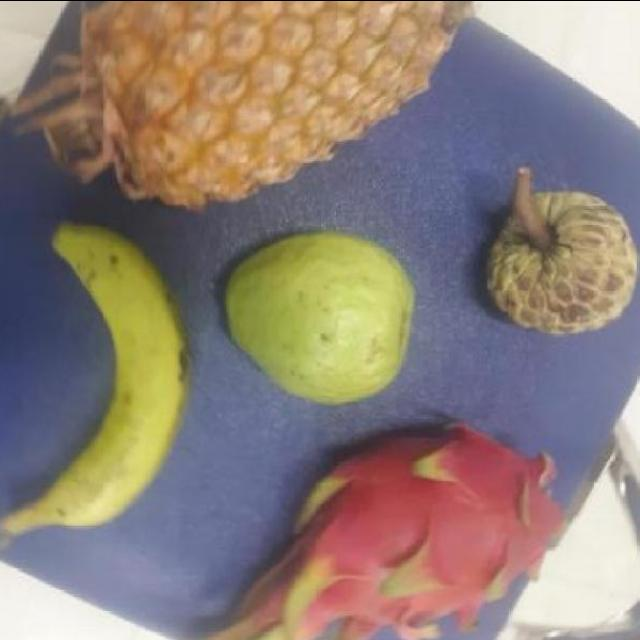banana: (25, 234, 186, 548)
dragon fruit: (300, 417, 556, 633)
guava: (223, 228, 411, 416)
sugar apple: (481, 180, 640, 344)
